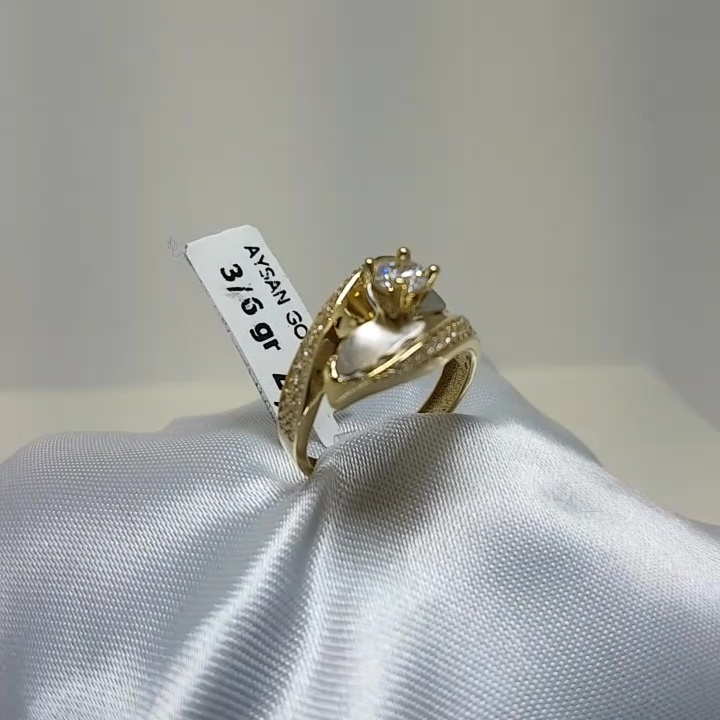Ring 6: (262, 243, 505, 487)
